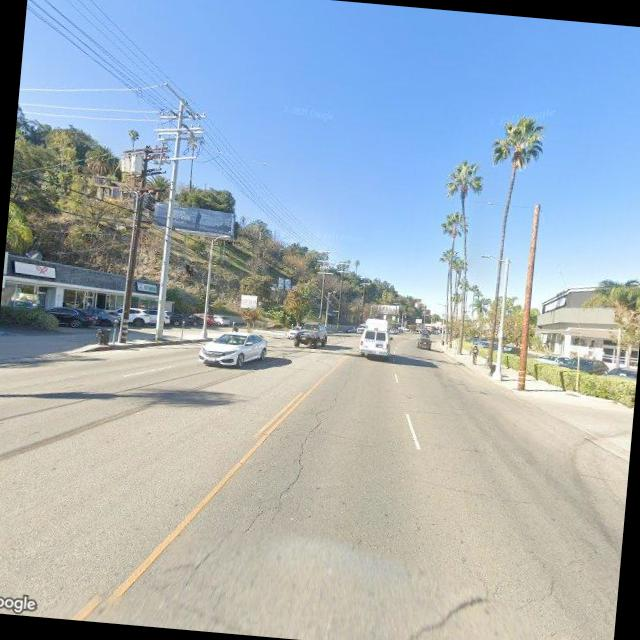pothole: (229, 358, 352, 558)
